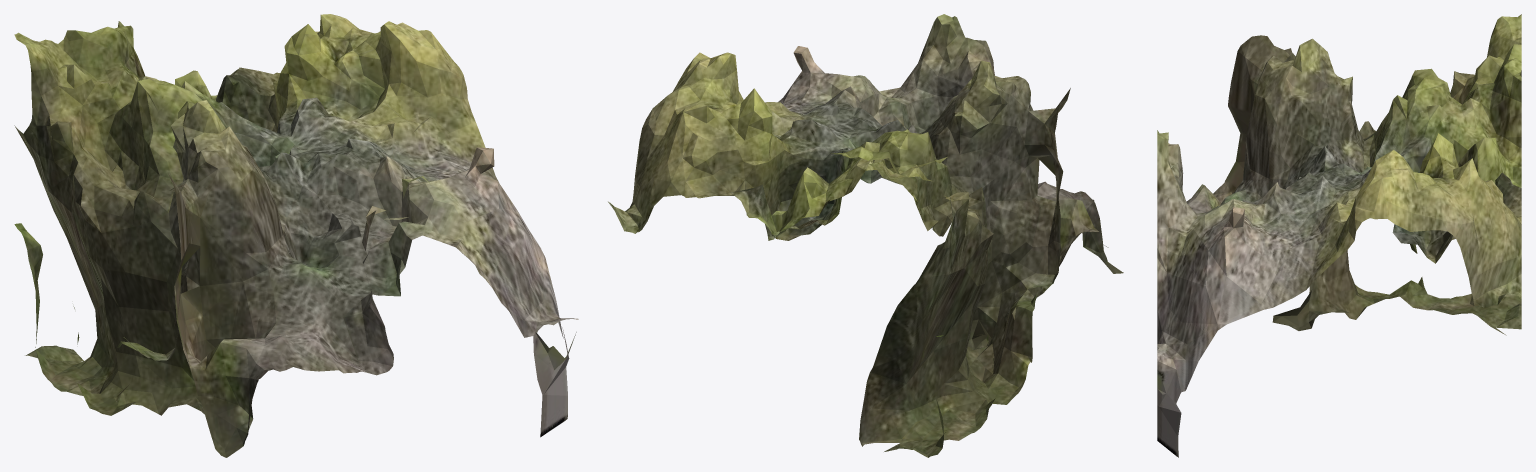
3 renders of one model, left to right at view 1: azimuth 30°, elevation 25°; view 2: azimuth 150°, elevation 25°; view 3: azimuth 270°, elevation 25°, orthographic. The views are drawn at different scales.
Bounding box in the file's own units: 11.8 × 10.5 × 11.8.
6 materials, 6 textured.
